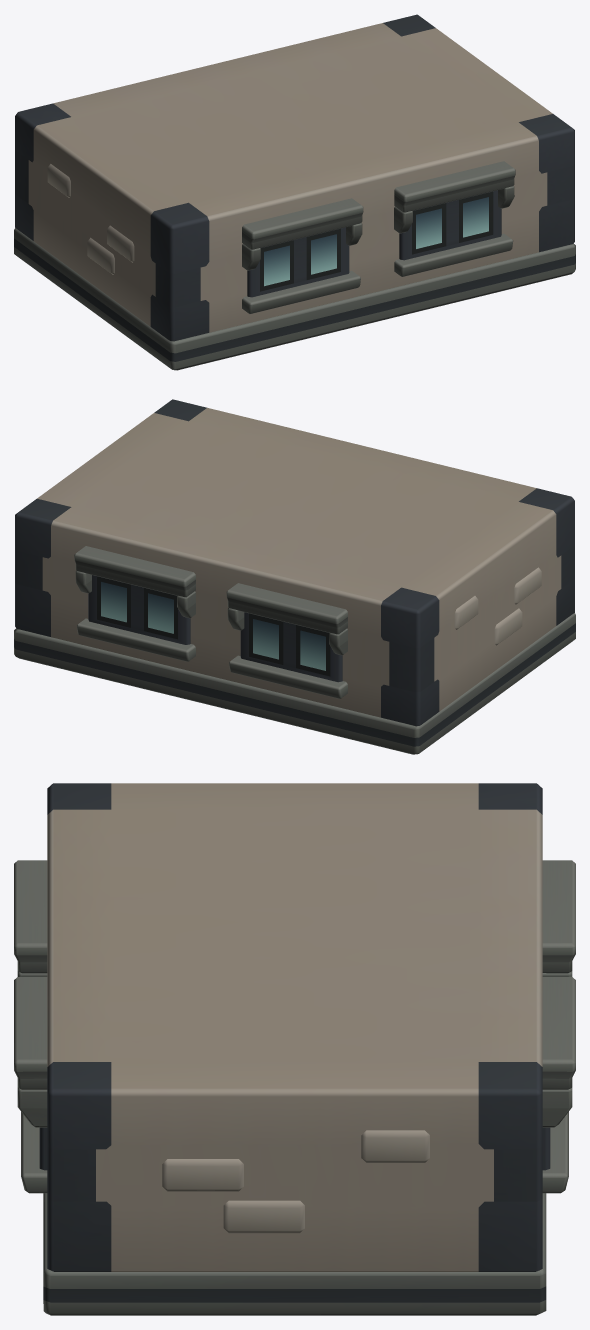
The model's file is appartment_type1_x6_element_cream.fbx.
3 renders of one model, top to bottom at view 1: azimuth 30°, elevation 25°; view 2: azimuth 150°, elevation 25°; view 3: azimuth 270°, elevation 25°, orthographic. The views are drawn at different scales.
Visible parts, largest first — view 1: appartment_type1_x6_element_cream; view 2: appartment_type1_x6_element_cream; view 3: appartment_type1_x6_element_cream.
Part boxes in pixels (x1,y1,x2,y2): appartment_type1_x6_element_cream: [14, 14, 575, 370]; appartment_type1_x6_element_cream: [14, 399, 575, 754]; appartment_type1_x6_element_cream: [14, 783, 575, 1315].
Bounding box in the file's own units: 1219 × 409 × 918.
